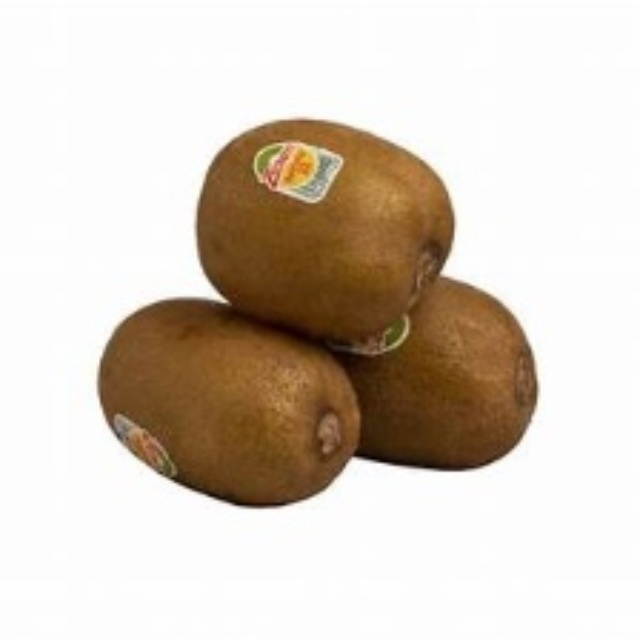kiwi: (191, 115, 452, 337), (86, 296, 360, 498), (341, 289, 544, 479)
